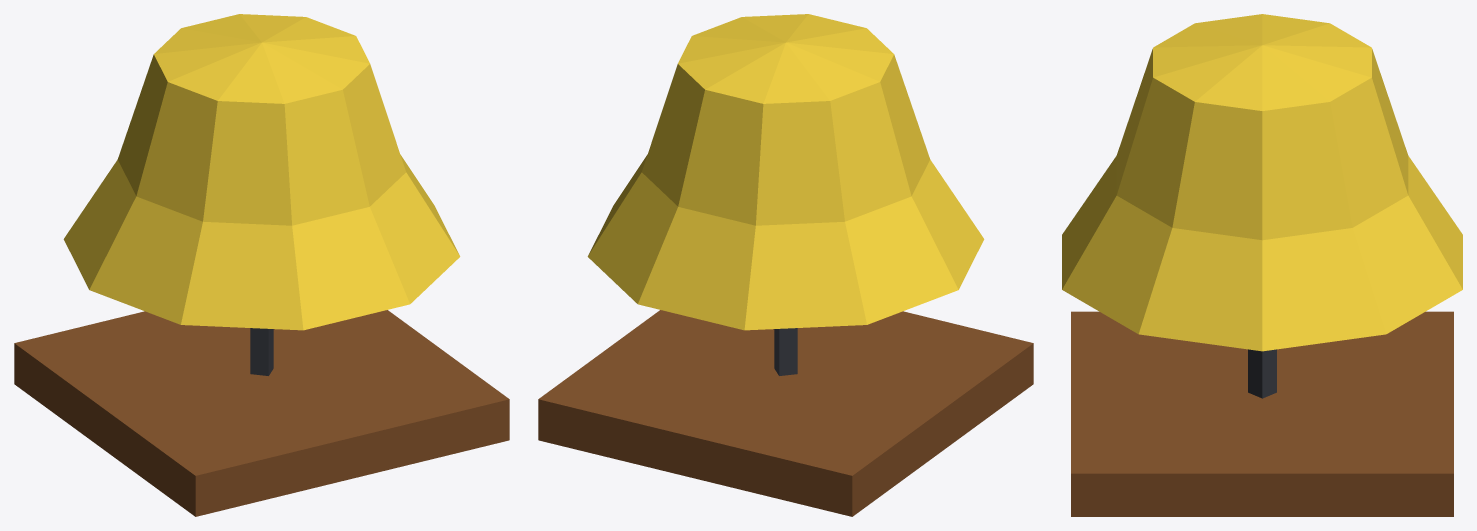
Rendered from school_bell.fbx.
The picture shows the model from 3 angles, left to right: view 1: azimuth 30°, elevation 25°; view 2: azimuth 150°, elevation 25°; view 3: azimuth 270°, elevation 25°; orthographic projection. The views are drawn at different scales.
Parts seen in each view (by area): view 1: school_bell; view 2: school_bell; view 3: school_bell.
Part boxes in pixels (x1,y1,x2,y2): school_bell: (14,14,509,516); school_bell: (538,14,1033,516); school_bell: (1062,14,1462,516).
Size of the model in its own units: 0.44 by 0.45 by 0.4185.
